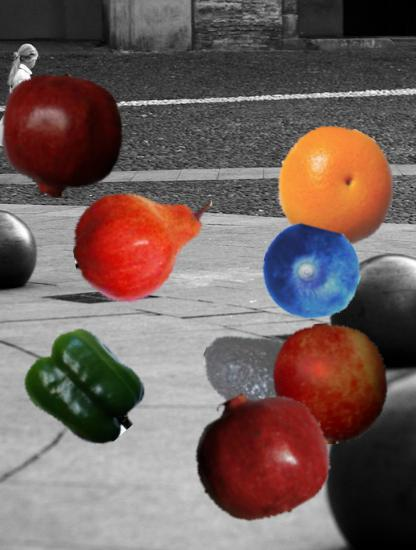Avocado: (199, 315, 326, 442)
Grapefruit: (276, 127, 397, 248)
Huckleberry: (261, 223, 361, 323)
Nectarine: (270, 323, 391, 444)
Pear: (73, 172, 219, 318)
Pepper: (28, 332, 144, 448)
Pomegranate: (192, 387, 328, 523), (0, 74, 125, 199)
